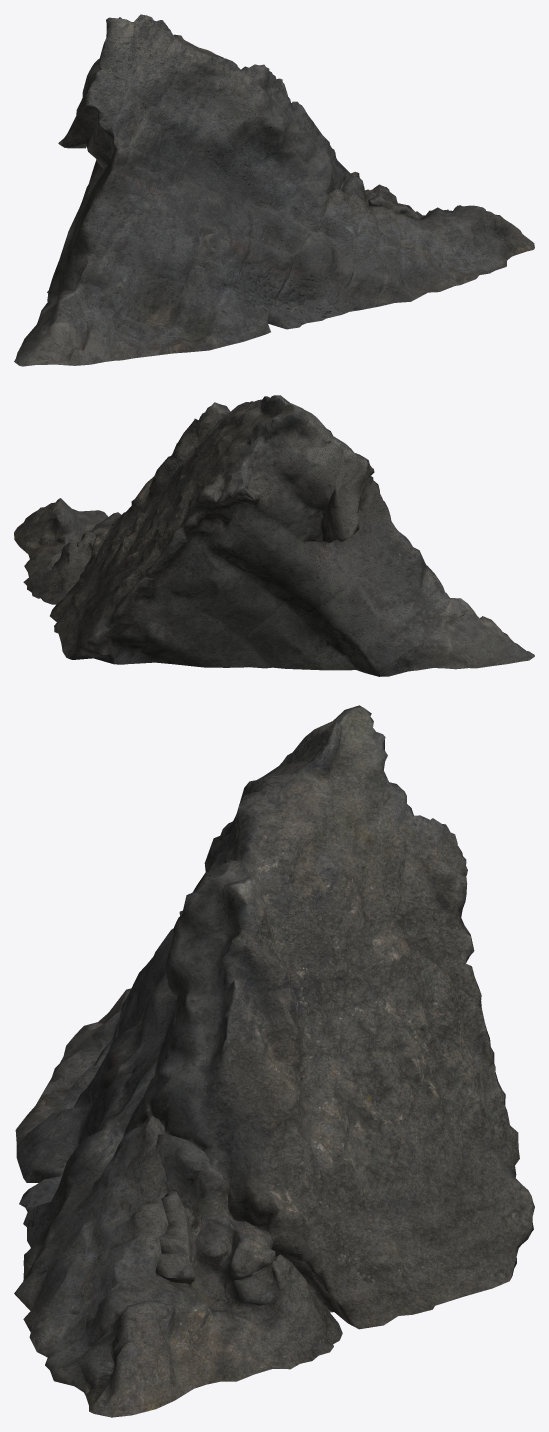
File: SM_yibofeu_tier_2.gltf
3 views of the same model, one above another, from view 1: azimuth 30°, elevation 25°; view 2: azimuth 150°, elevation 25°; view 3: azimuth 270°, elevation 25° (orthographic). The views are drawn at different scales.
Parts seen in each view (by area): view 1: yibofeu_LOD2_TIER2_000; view 2: yibofeu_LOD2_TIER2_000; view 3: yibofeu_LOD2_TIER2_000.
Boxes of the visible parts, <box> form: yibofeu_LOD2_TIER2_000: <box>14,14,534,366</box>; yibofeu_LOD2_TIER2_000: <box>14,395,534,676</box>; yibofeu_LOD2_TIER2_000: <box>14,705,534,1417</box>.
Size of the model in its own units: 4.75 by 2.29 by 2.51.
1 material, 1 textured.
